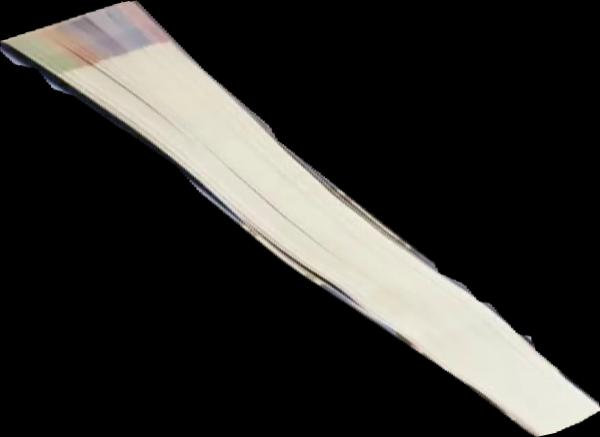backward: (1, 1, 600, 437)
